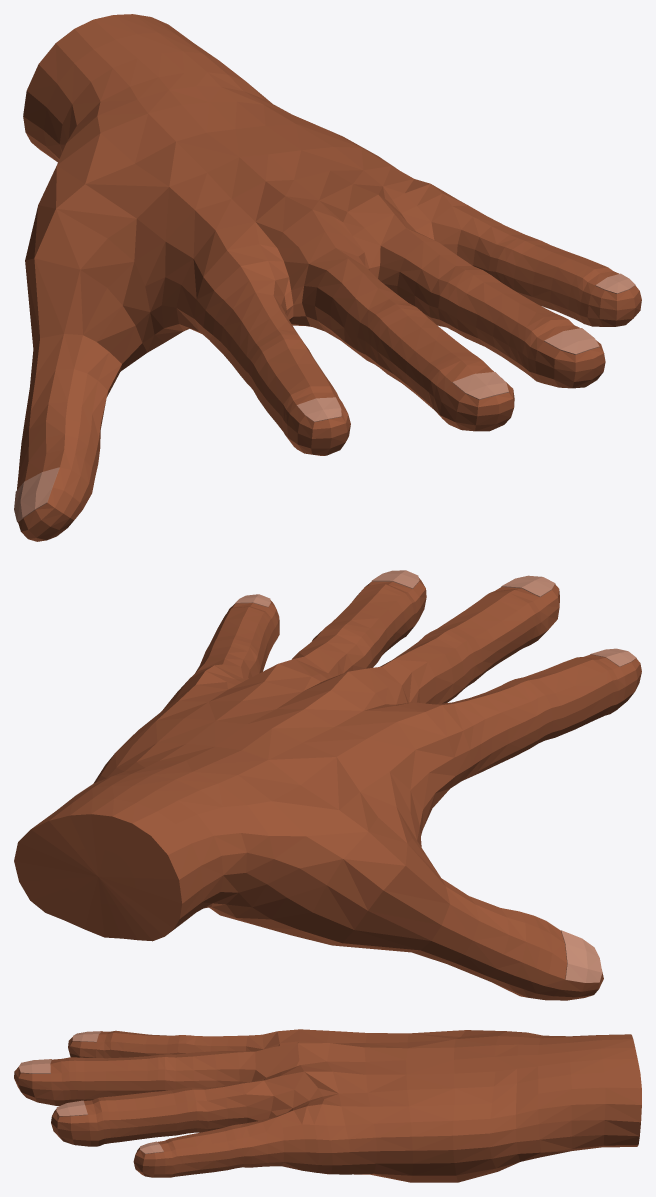
File: hand.obj
3 renders of one model, top to bottom at view 1: azimuth 30°, elevation 25°; view 2: azimuth 150°, elevation 25°; view 3: azimuth 270°, elevation 25°, orthographic. The views are drawn at different scales.
Bounding box in the file's own units: 1.71 × 0.9437 × 2.59.
